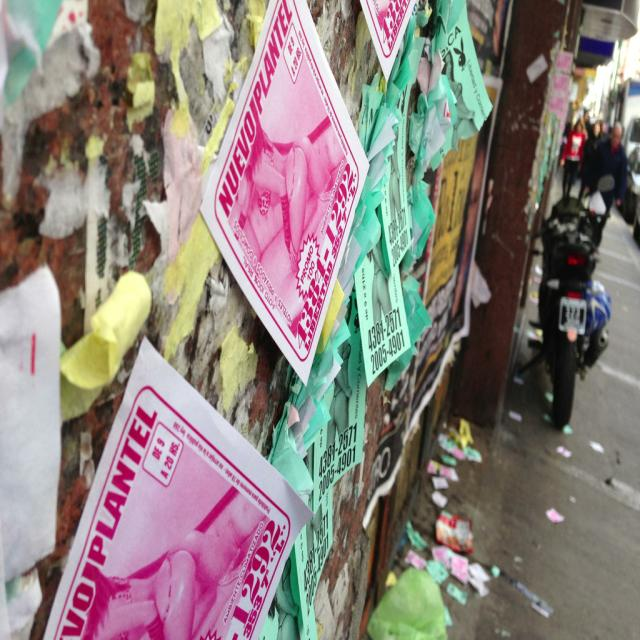Motorbikes: (526, 184, 615, 442)
